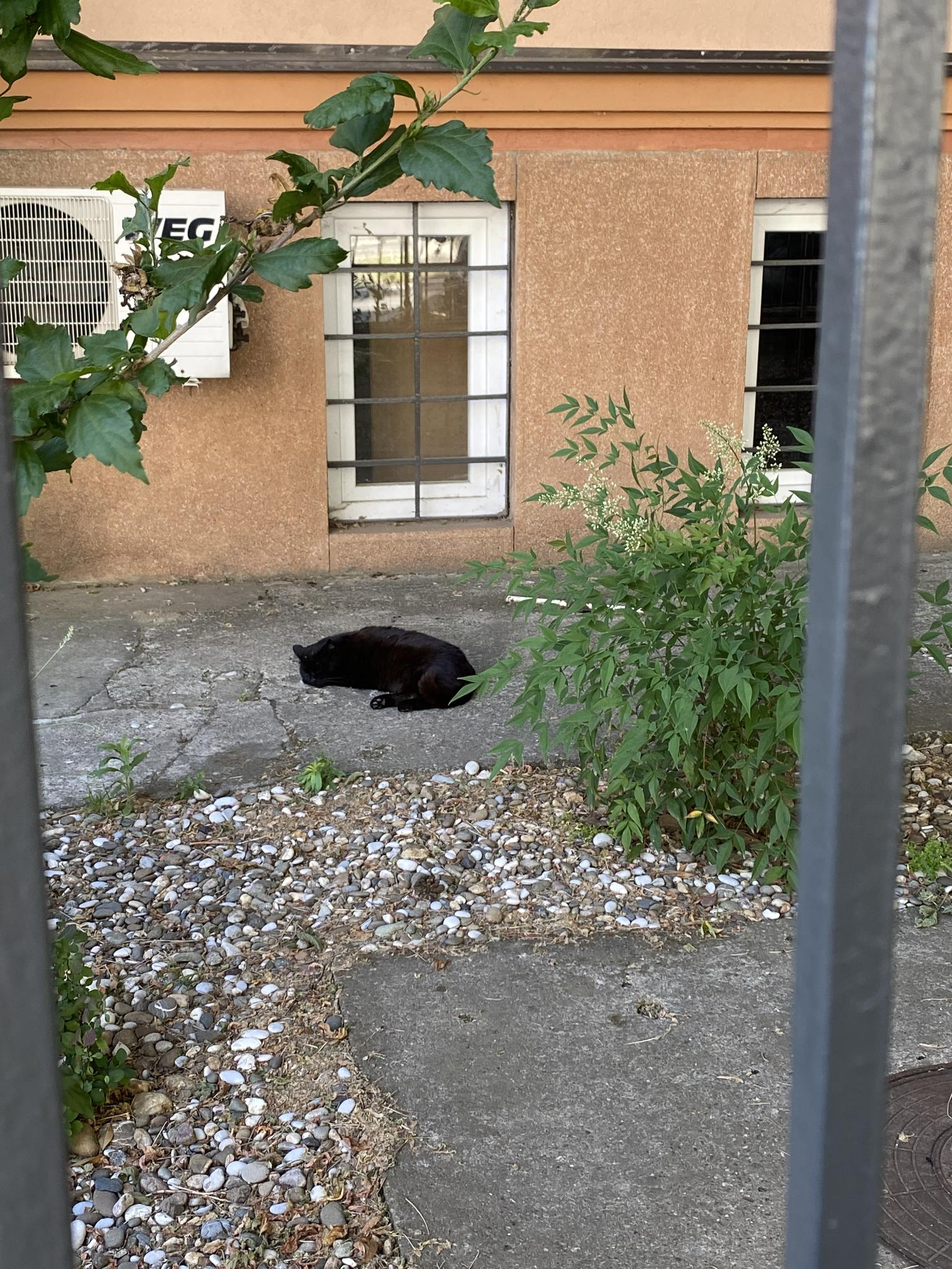macka: (292, 626, 476, 712)
